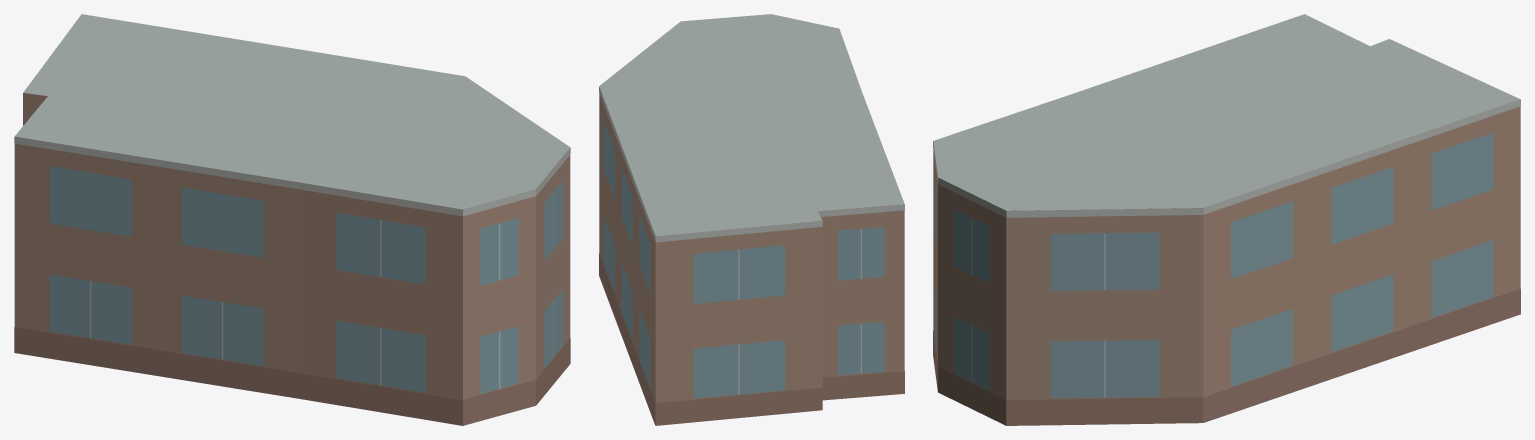
The model's file is survey-upis-32731061.glb.
3 renders of one model, left to right at view 1: azimuth 30°, elevation 25°; view 2: azimuth 150°, elevation 25°; view 3: azimuth 270°, elevation 25°, orthographic. The views are drawn at different scales.
Visible parts, largest first — view 1: survey-upis-32731061.tmp; view 2: survey-upis-32731061.tmp; view 3: survey-upis-32731061.tmp.
Part boxes in pixels (bbox=[...]): survey-upis-32731061.tmp: bbox=[14, 14, 570, 425]; survey-upis-32731061.tmp: bbox=[599, 14, 904, 425]; survey-upis-32731061.tmp: bbox=[933, 14, 1520, 425].
Size of the model in its own units: 14.93 by 7.6 by 18.83.
